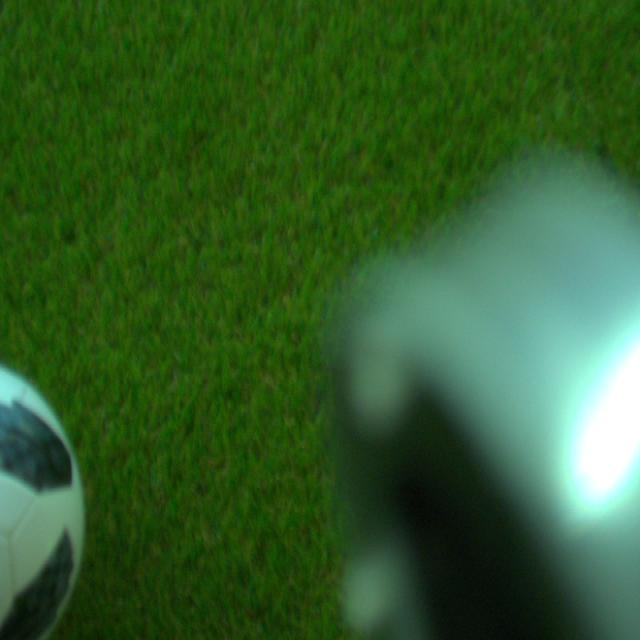ball: (0, 368, 89, 640)
